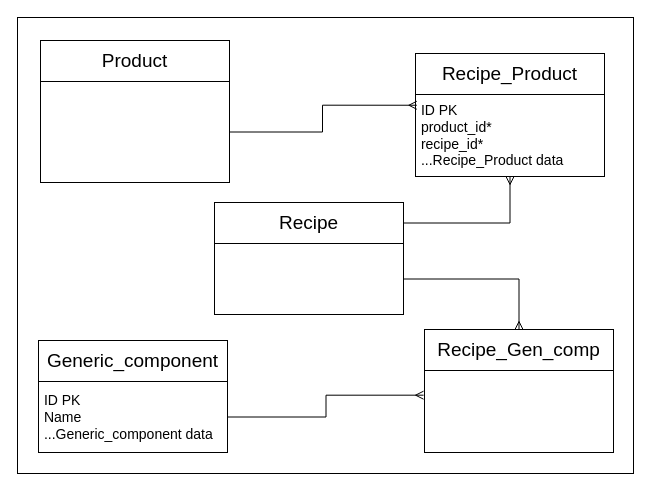
Image size: 651x500. Some labels were removed from this diagram. The shapes that lost their labels are listed below. From the top down, each one's centre as x and y in pixels, then its label:
At pixel 135 131: "ID PK unite_id* brand_id* category_id* ...Product data".
At pixel 309 278: "ID PK Name ...Recipe data".
At pixel 519 411: "ID PK generic_component_id* recipe_id* ...Recipe_Gen_comp data".
